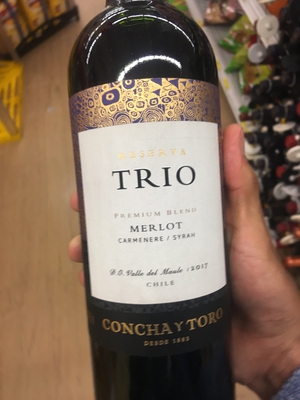trio merlot: (65, 9, 238, 400)
